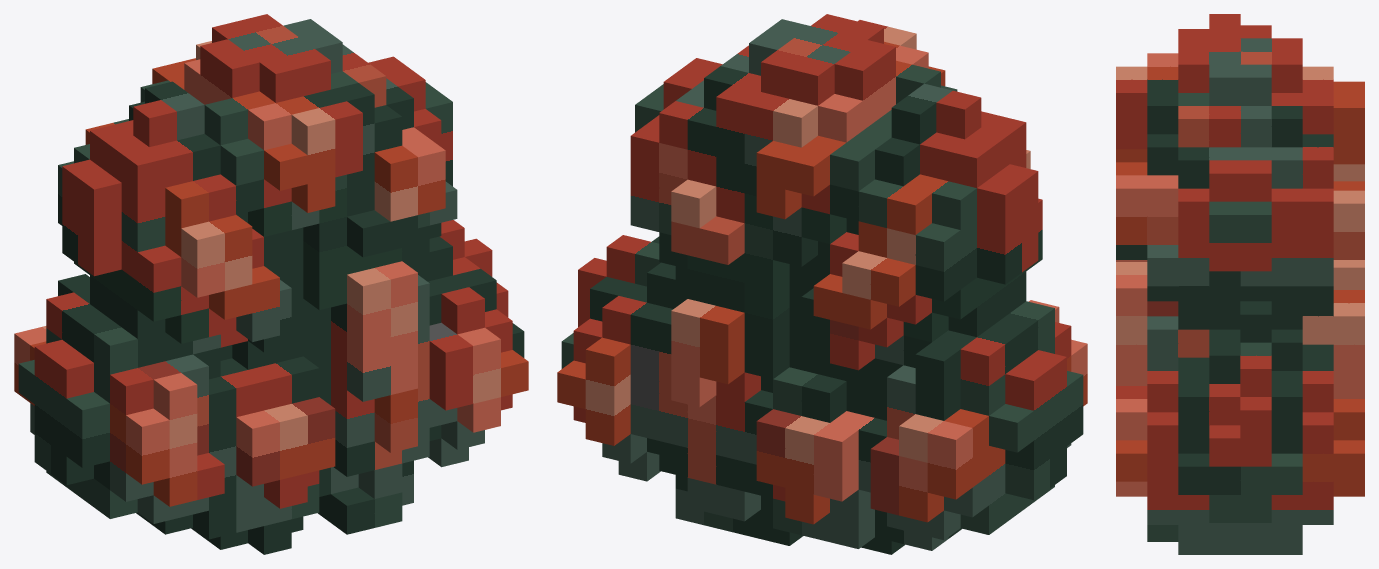
3 views of the same model, side by side, from view 1: azimuth 30°, elevation 25°; view 2: azimuth 150°, elevation 25°; view 3: azimuth 270°, elevation 25° (orthographic). The views are drawn at different scales.
Parts seen in each view (by area): view 1: ui_icon_copper_ore; view 2: ui_icon_copper_ore; view 3: ui_icon_copper_ore.
Boxes of the visible parts, box(x1,y1,x2,y2) form: ui_icon_copper_ore: box(14, 14, 528, 554); ui_icon_copper_ore: box(557, 14, 1087, 554); ui_icon_copper_ore: box(1116, 14, 1364, 554).
Size of the model in its own units: 16 by 16 by 8.
1 material, 1 textured.
